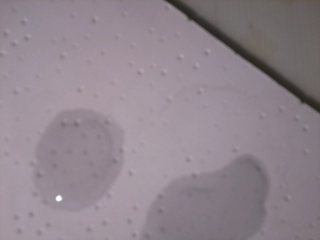Water_detected: (48, 121, 109, 199), (155, 179, 231, 240)
